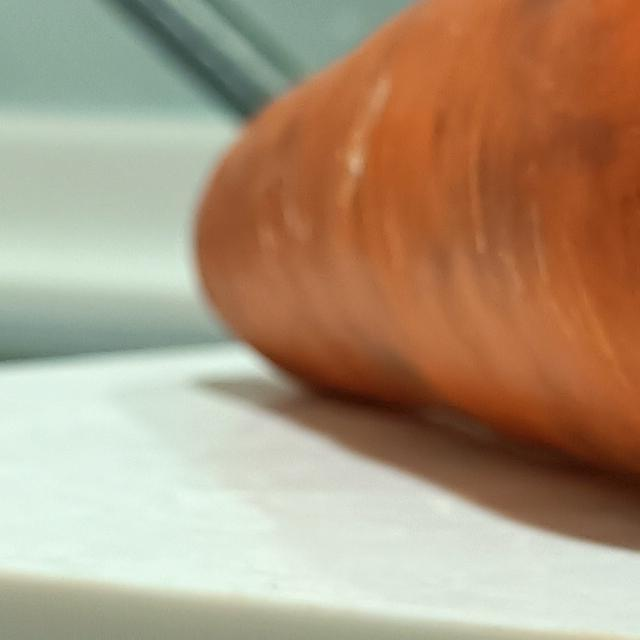carrot: (187, 1, 640, 541)
